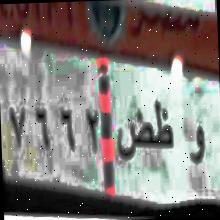2: (86, 103, 100, 152)
6: (32, 103, 50, 157), (58, 104, 77, 155)
7: (7, 103, 26, 149)
Thaa: (152, 95, 174, 158)
daad: (116, 107, 153, 166)
waw: (186, 121, 208, 170)
